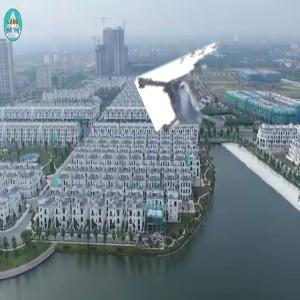drone: (150, 52, 255, 157)
